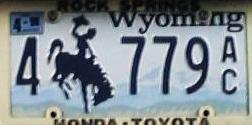placa de veiculo: (6, 1, 252, 125)
